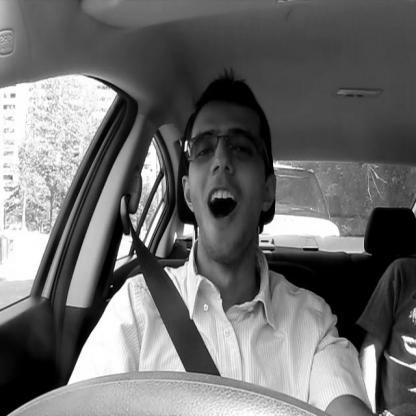seatbelt: (118, 71, 296, 391)
